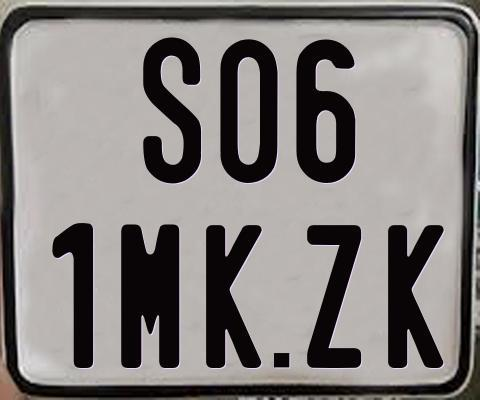0: (219, 37, 280, 182)
1: (50, 222, 94, 368)
6: (293, 39, 355, 186)
K: (206, 223, 265, 366), (385, 225, 442, 370)
M: (119, 224, 179, 371)
S: (143, 37, 205, 188)
Z: (306, 222, 365, 370)
